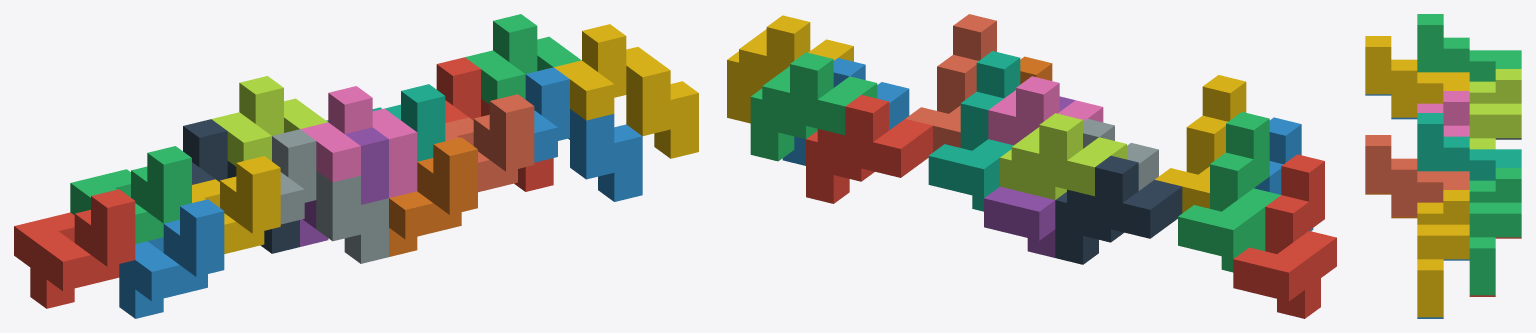
Rendered from tiling.obj.
The picture shows the model from 3 angles, left to right: view 1: azimuth 30°, elevation 25°; view 2: azimuth 150°, elevation 25°; view 3: azimuth 270°, elevation 25°; orthographic projection. The views are drawn at different scales.
Parts seen in each view (by area): view 1: copy_2_domain_8, copy_1_domain_1, copy_2_domain_6, copy_2_domain_2, copy_1_domain_2, copy_2_domain_4, copy_1_domain_6, copy_1_domain_3, copy_1_domain_8, copy_1_domain_4, copy_2_domain_3, copy_2_domain_7 (+4 smaller); view 2: copy_1_domain_1, copy_1_domain_3, copy_2_domain_1, copy_2_domain_5, copy_2_domain_7, copy_1_domain_7, copy_2_domain_3, copy_2_domain_8, copy_1_domain_4, copy_1_domain_8, copy_2_domain_4, copy_1_domain_5 (+4 smaller); view 3: copy_2_domain_8, copy_2_domain_7, copy_1_domain_4, copy_1_domain_8, copy_1_domain_3, copy_1_domain_7, copy_2_domain_3, copy_2_domain_4, copy_1_domain_2, copy_1_domain_6.
Boxes of the visible parts, <box> form: copy_2_domain_8: <box>554,24,698,158</box>; copy_1_domain_1: <box>14,189,135,308</box>; copy_2_domain_6: <box>525,67,642,201</box>; copy_2_domain_2: <box>272,129,388,263</box>; copy_1_domain_2: <box>119,199,224,318</box>; copy_2_domain_4: <box>300,86,417,197</box>; copy_1_domain_6: <box>389,137,477,256</box>; copy_1_domain_3: <box>70,146,191,243</box>; copy_1_domain_8: <box>445,94,534,192</box>; copy_1_domain_4: <box>192,156,280,253</box>; copy_2_domain_3: <box>211,76,327,166</box>; copy_2_domain_7: <box>465,14,581,139</box>; copy_1_domain_1: <box>1233,154,1336,318</box>; copy_1_domain_3: <box>1178,112,1280,272</box>; copy_2_domain_1: <box>1055,155,1182,264</box>; copy_2_domain_5: <box>806,95,932,203</box>; copy_2_domain_7: <box>750,52,877,161</box>; copy_1_domain_7: <box>928,51,1020,211</box>; copy_2_domain_3: <box>1000,113,1126,199</box>; copy_2_domain_8: <box>727,15,853,123</box>; copy_1_domain_4: <box>1155,75,1246,212</box>; copy_1_domain_8: <box>905,14,996,152</box>; copy_2_domain_4: <box>988,76,1103,145</box>; copy_1_domain_5: <box>984,96,1075,257</box>; copy_2_domain_8: <box>1417,190,1469,317</box>; copy_2_domain_7: <box>1469,168,1521,295</box>; copy_1_domain_4: <box>1365,36,1469,117</box>; copy_1_domain_8: <box>1365,135,1469,216</box>; copy_1_domain_3: <box>1417,14,1521,81</box>; copy_1_domain_7: <box>1417,113,1521,180</box>; copy_2_domain_3: <box>1469,69,1521,149</box>; copy_2_domain_4: <box>1417,91,1469,136</box>; copy_1_domain_2: <box>1365,94,1417,119</box>; copy_1_domain_6: <box>1365,193,1417,218</box>.
Bounding box in the file's own units: 22 × 5 × 6.
